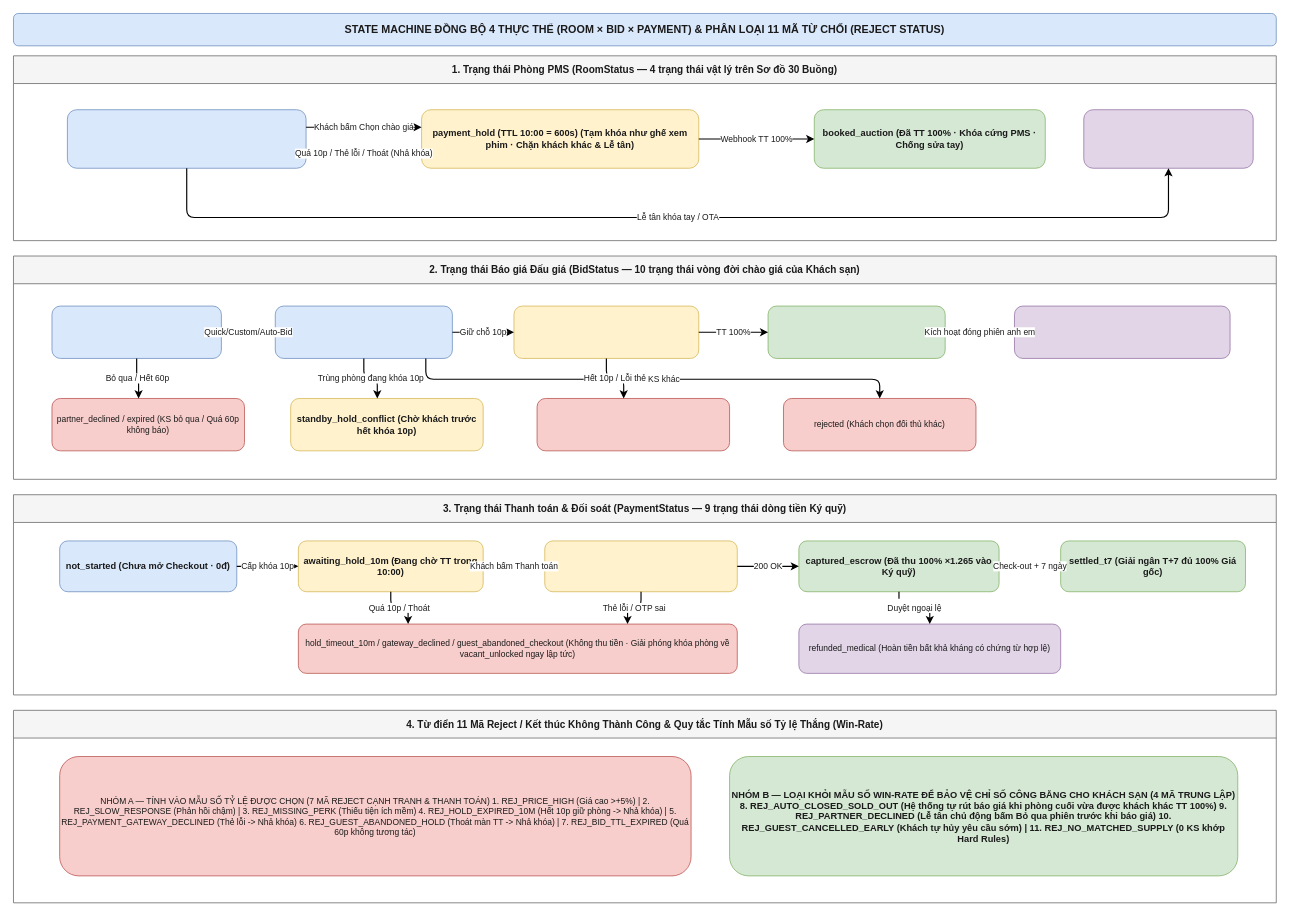
Some shapes in this 1290 by 916 pixel diagram are drawn without their labels. The shapes that lost their labels are listed below. From the top down, each one's box as (x1, y1, x2, y2) in pixels, then its label:
(67, 109, 306, 168): vacant_unlocked (Phòng trống · Mở cho N phiên đấu giá cùng lúc)
(1083, 109, 1253, 168): booked_other (Khóa kênh OTA / Walk-in / Khóa tay Lễ tân)
(51, 305, 221, 358): open_unbid (Đang mở <60p · Chờ báo giá)
(275, 305, 452, 358): bid_sent (Đã gửi One-Shot · Chờ chọn)
(513, 305, 699, 358): payment_hold_10m (Khách đang giữ phòng 10p)
(767, 305, 945, 358): won (Thắng phiên · Đã TT 100%)
(1014, 305, 1230, 358): auto_closed (Tự đóng bảo vệ hết phòng)
(536, 398, 730, 451): payment_failed (Quá 10p / Thẻ lỗi / Thoát TT)
(544, 540, 737, 592): processing_webhook (Đang xác thực chữ ký Ký quỹ)
